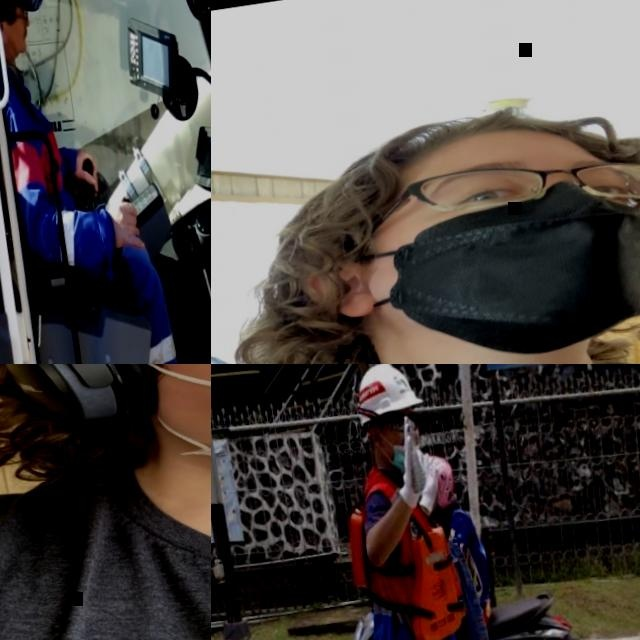Hardhat: (351, 364, 428, 421), (425, 447, 459, 507)
Mask: (346, 162, 640, 364)
NO-Hardhat: (306, 88, 640, 212)
NO-Mask: (4, 28, 29, 58)
NO-Safety Vest: (0, 397, 211, 640), (442, 506, 487, 595)
Person: (211, 80, 640, 364), (0, 0, 194, 364), (0, 364, 211, 640), (320, 364, 517, 640), (430, 450, 497, 617)
Safety Vest: (340, 467, 471, 640), (0, 80, 84, 275)
machinery: (0, 0, 211, 364)
